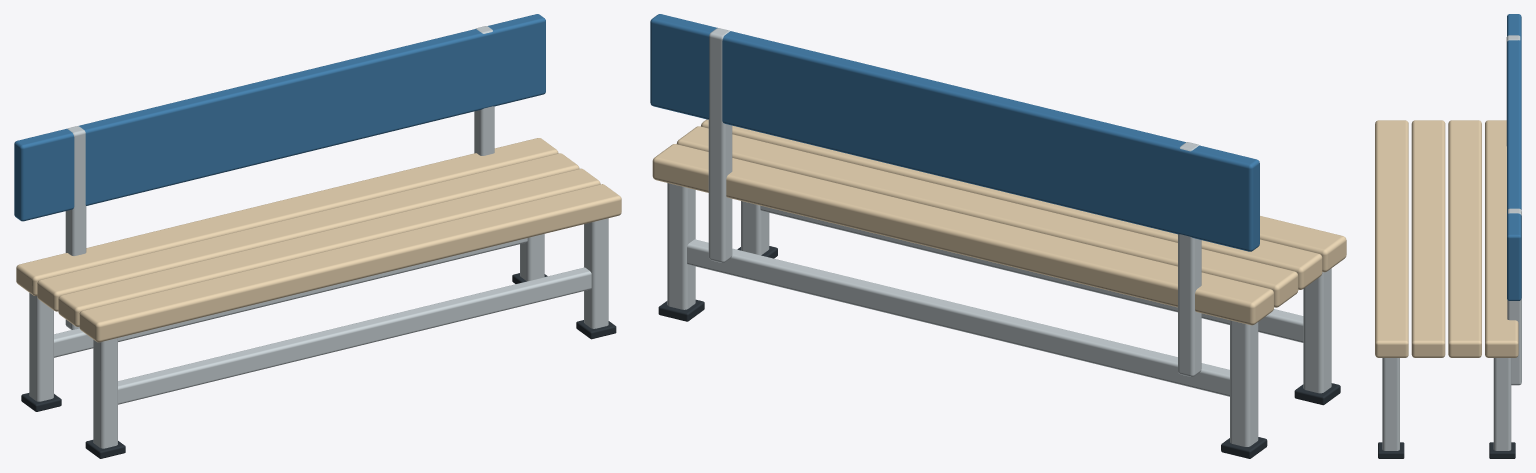
Rendered from squash-club-and-racket-workshop-spectator-bench-a0c34c27__29743.glb.
The picture shows the model from 3 angles, left to right: view 1: azimuth 30°, elevation 25°; view 2: azimuth 150°, elevation 25°; view 3: azimuth 270°, elevation 25°; orthographic projection. The views are drawn at different scales.
Parts seen in each view (by area): view 1: spectator-bench; view 2: spectator-bench; view 3: spectator-bench.
Boxes of the visible parts, x1=… form: spectator-bench: x1=14, y1=14, x2=621, y2=458; spectator-bench: x1=650, y1=14, x2=1346, y2=458; spectator-bench: x1=1375, y1=14, x2=1521, y2=458.
Size of the model in its own units: 1.8 by 0.8512 by 0.5013.
